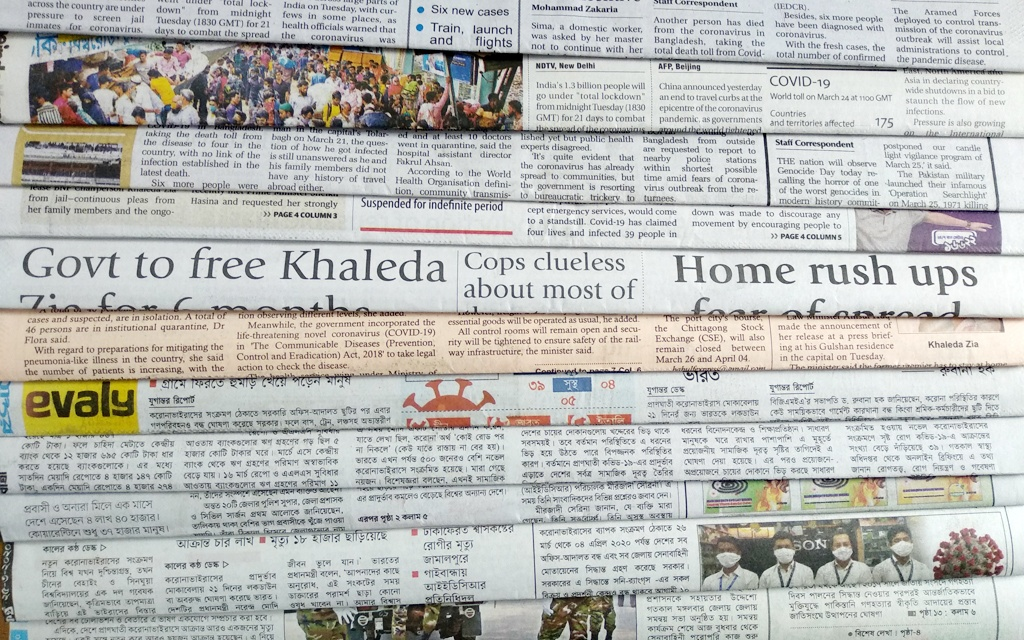news_paper: (3, 22, 1023, 160), (1, 495, 1024, 617), (2, 273, 1023, 395), (3, 108, 1024, 224), (1, 1, 1024, 91), (6, 201, 1023, 291), (1, 549, 1022, 638), (2, 411, 1023, 497), (4, 359, 1023, 444), (1, 261, 1023, 342), (7, 467, 1022, 536)
